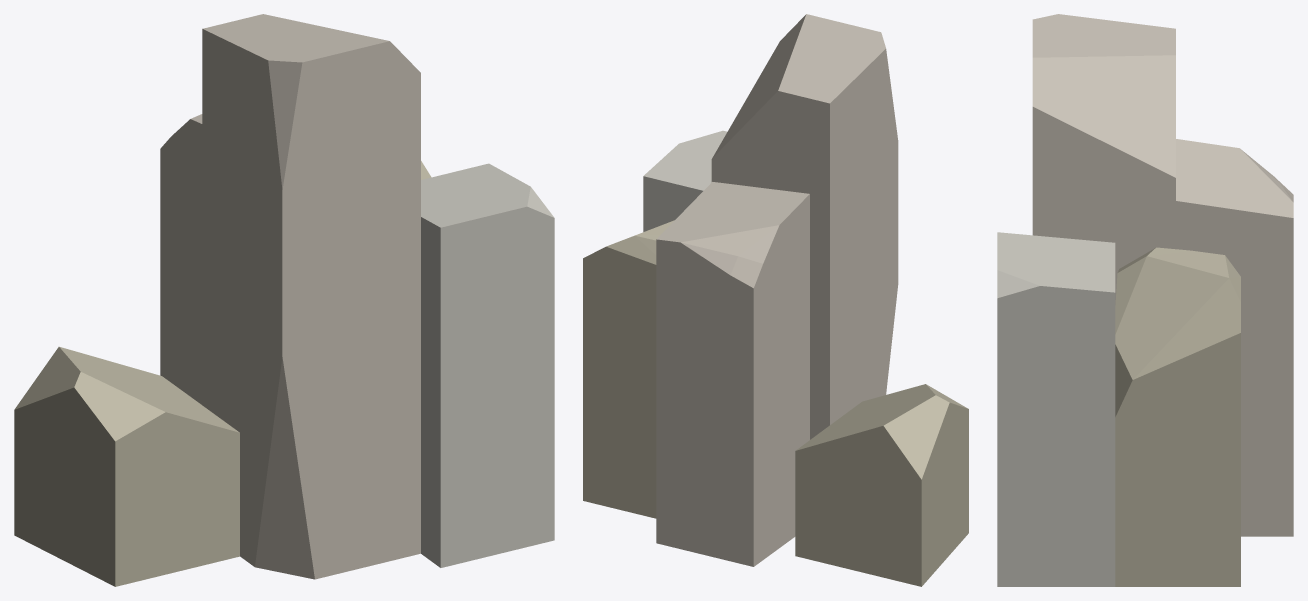
File: Rocks_Square_l_03 2.fbx
3 renders of one model, left to right at view 1: azimuth 30°, elevation 25°; view 2: azimuth 150°, elevation 25°; view 3: azimuth 270°, elevation 25°, orthographic. The views are drawn at different scales.
Visible parts, largest first — view 1: Rocks_Square_l_03; view 2: Rocks_Square_l_03; view 3: Rocks_Square_l_03.
Boxes of the visible parts, <box> form: Rocks_Square_l_03: <box>14,14,554,586</box>; Rocks_Square_l_03: <box>583,14,968,586</box>; Rocks_Square_l_03: <box>997,14,1293,586</box>.
Size of the model in its own units: 250 by 310 by 179.
